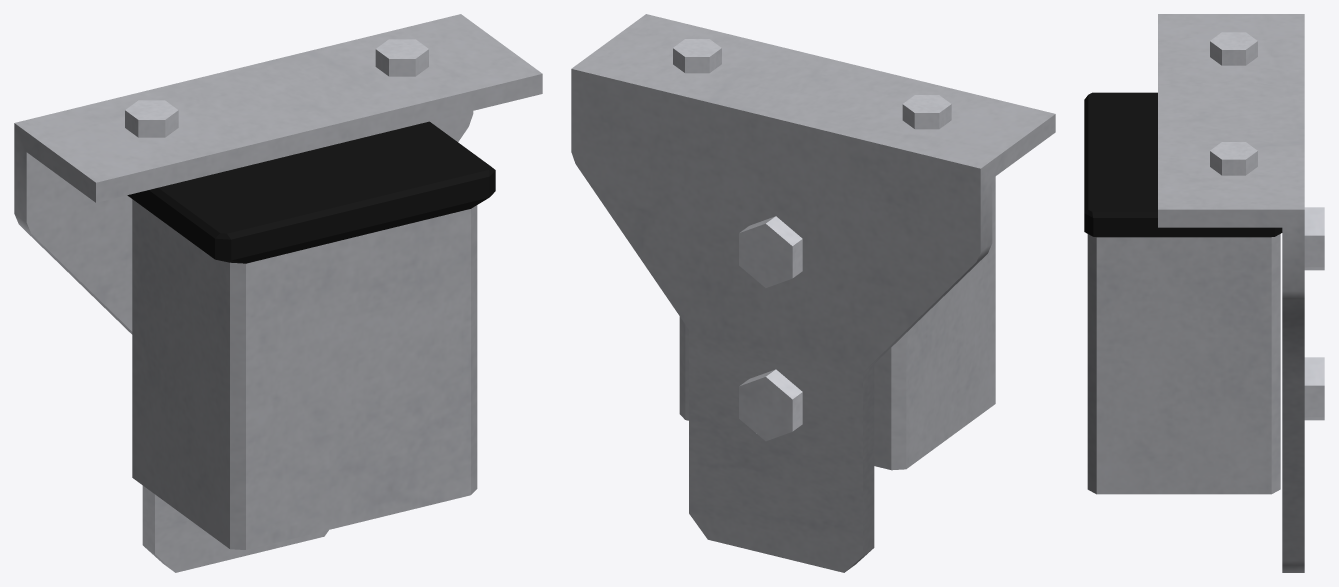
File: LegsTopRC.glb
3 renders of one model, left to right at view 1: azimuth 30°, elevation 25°; view 2: azimuth 150°, elevation 25°; view 3: azimuth 270°, elevation 25°, orthographic. The views are drawn at different scales.
Visible parts, largest first — view 1: LegsTopRC; view 2: LegsTopRC; view 3: LegsTopRC.
Boxes of the visible parts, x1,y1,x2,y2 form: LegsTopRC: [14, 14, 542, 572]; LegsTopRC: [571, 14, 1055, 572]; LegsTopRC: [1084, 14, 1324, 572].
Bounding box in the file's own units: 0.3566 × 0.3776 × 0.1852.
Materials: 4 (3 with a texture image).
